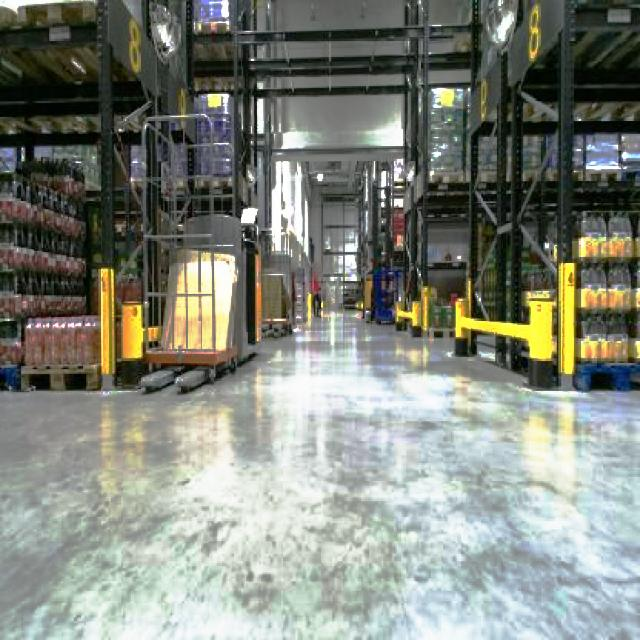ground: (0, 311, 638, 638)
pallet: (454, 0, 638, 395), (452, 211, 638, 392), (0, 157, 92, 385), (143, 212, 246, 382), (569, 212, 638, 391), (155, 246, 237, 352), (17, 314, 102, 391), (17, 363, 102, 391)
